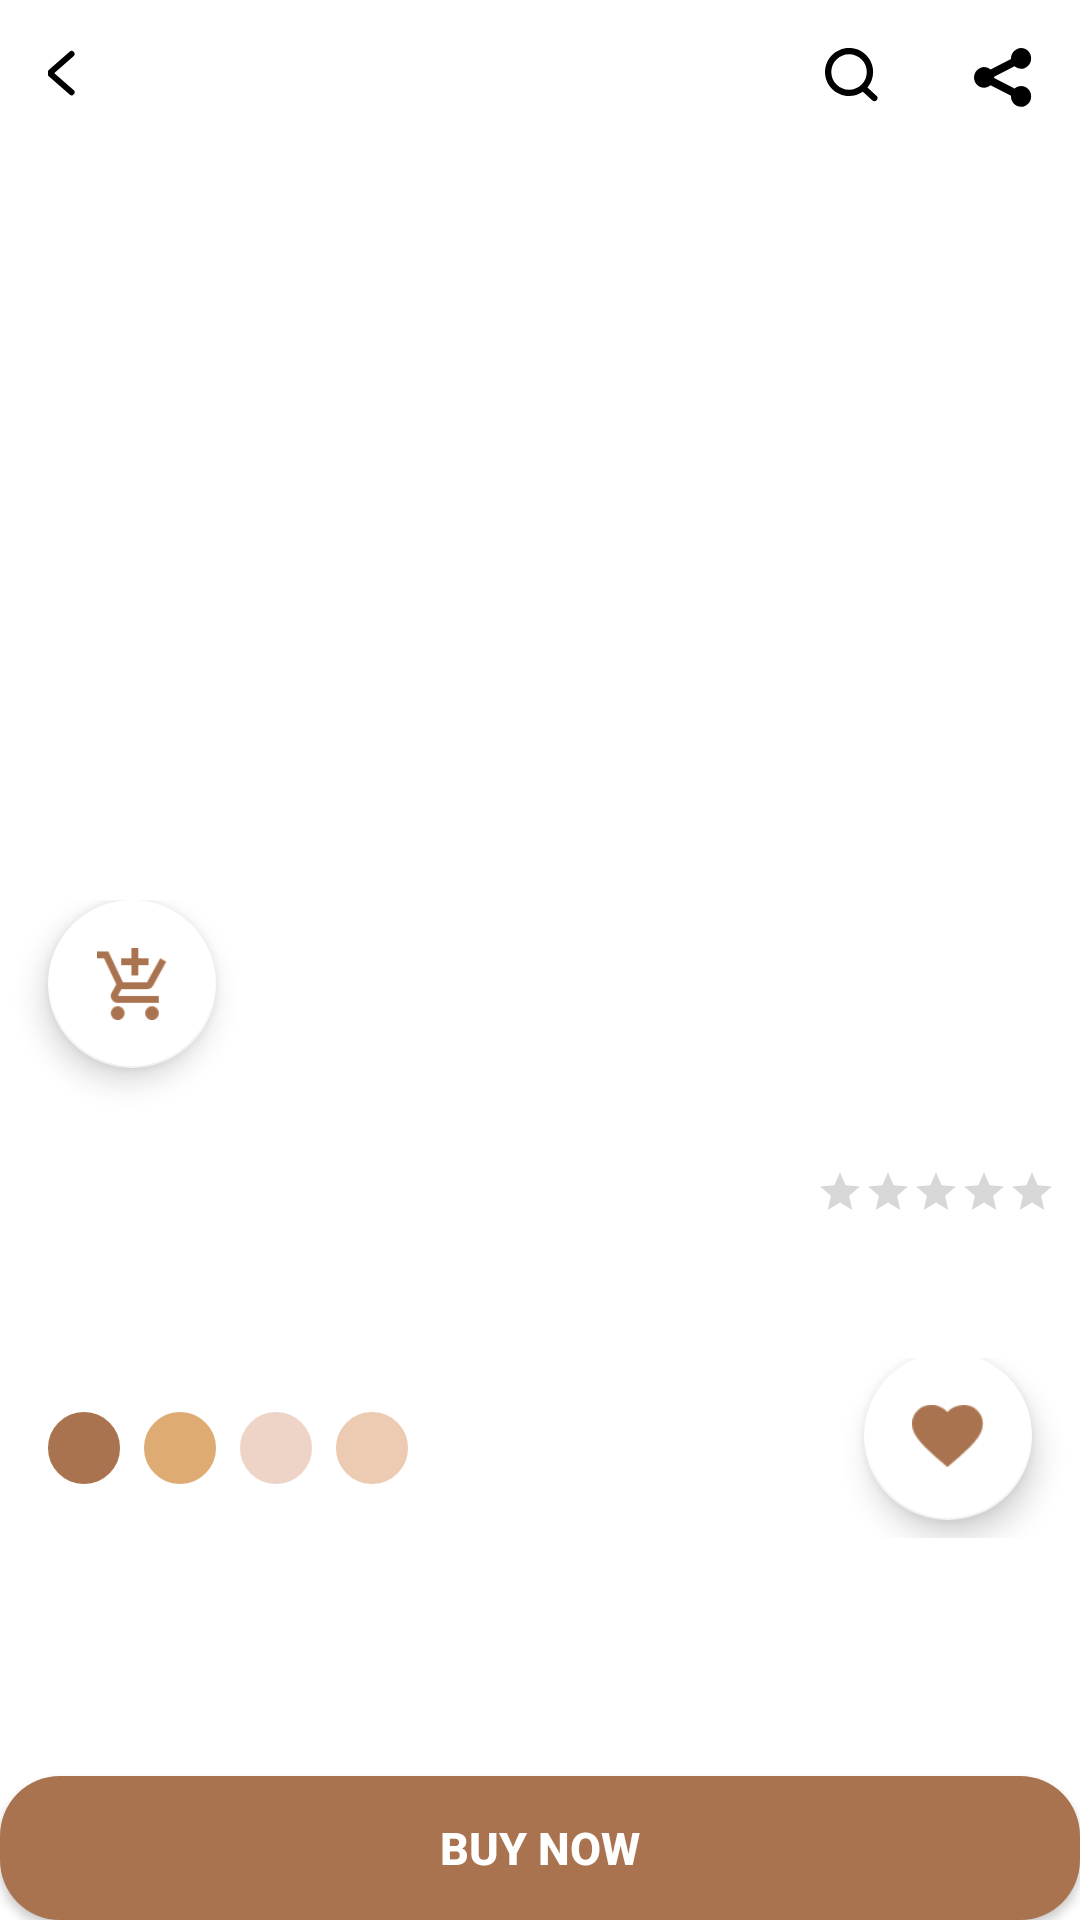

Screen size 1080×1920. Icon name, then its box in pixels as (x1, y1, x2, y2):
search: (825, 48, 878, 102)
